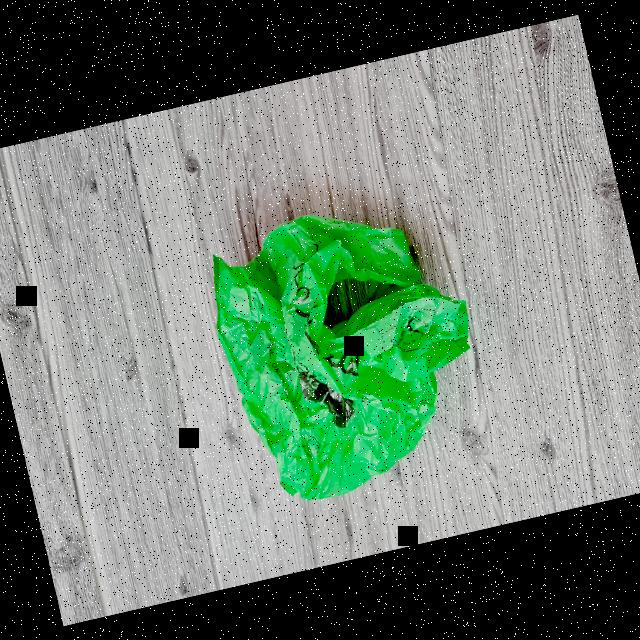plastic_bag: (168, 166, 502, 536)
